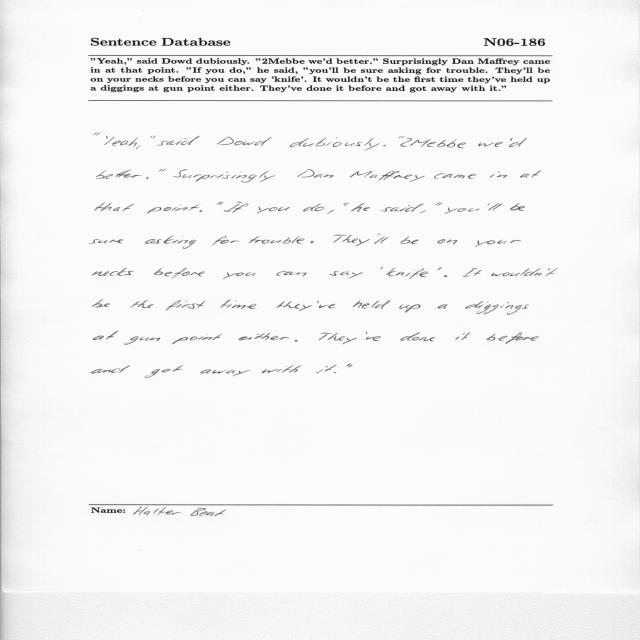word: (173, 170, 276, 183), (290, 137, 380, 151), (465, 301, 529, 315), (350, 171, 425, 182), (145, 235, 197, 249), (401, 138, 467, 148), (486, 332, 539, 344), (154, 268, 205, 279), (217, 137, 272, 147), (491, 268, 558, 276), (147, 204, 199, 214), (172, 334, 222, 344), (445, 203, 490, 214), (145, 365, 183, 378), (386, 268, 428, 279), (249, 236, 305, 244), (157, 136, 200, 146), (276, 301, 319, 311), (104, 136, 139, 148), (319, 333, 357, 344), (333, 235, 370, 246), (97, 170, 142, 179), (166, 300, 206, 310), (380, 203, 424, 212), (239, 333, 290, 340), (95, 203, 134, 212), (200, 370, 250, 377), (92, 268, 134, 276), (353, 300, 390, 309), (475, 240, 522, 247), (298, 169, 334, 178), (221, 300, 257, 309), (125, 336, 161, 345), (400, 333, 435, 342), (262, 365, 301, 373), (92, 366, 130, 374), (224, 202, 249, 213), (329, 271, 363, 279), (212, 236, 239, 246), (434, 173, 476, 179), (420, 202, 440, 214), (223, 272, 256, 279), (93, 331, 118, 340), (136, 136, 153, 149), (328, 203, 347, 214), (257, 207, 290, 213), (399, 304, 421, 313), (316, 365, 337, 374), (131, 300, 154, 308), (351, 203, 370, 212), (463, 268, 482, 277), (303, 204, 324, 212), (90, 239, 123, 244), (509, 138, 527, 147), (400, 236, 419, 244), (374, 234, 389, 244), (277, 271, 307, 276), (366, 331, 381, 341), (520, 171, 541, 178), (92, 300, 110, 308), (478, 142, 503, 147), (510, 203, 525, 211), (455, 332, 470, 340), (490, 172, 507, 179), (488, 203, 503, 210), (438, 239, 458, 244), (319, 304, 335, 308), (438, 304, 448, 309), (159, 169, 166, 172), (438, 202, 443, 206), (347, 364, 352, 368), (94, 133, 100, 136), (217, 202, 223, 205), (438, 267, 442, 271), (344, 203, 349, 206), (399, 136, 405, 138), (153, 136, 156, 139), (380, 267, 383, 270), (383, 145, 386, 147), (146, 177, 149, 179), (200, 210, 203, 212), (311, 241, 314, 243), (444, 275, 447, 277), (295, 340, 298, 342), (334, 372, 336, 373)
